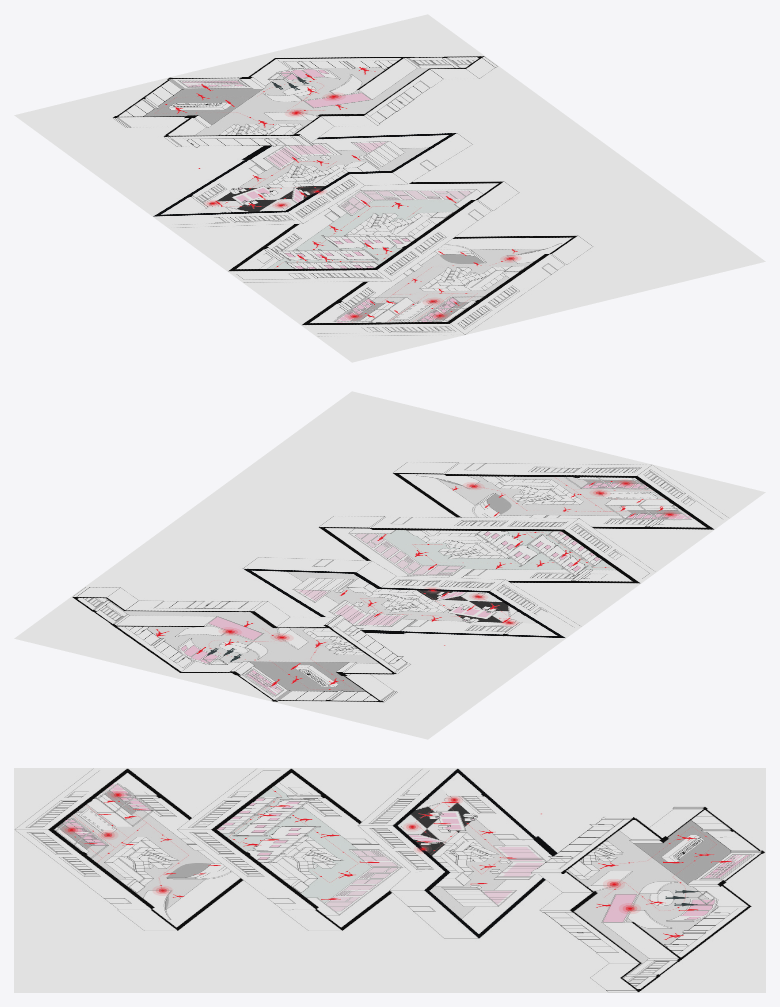
File: pinacoteca.obj
3 views of the same model, one above another, from view 1: azimuth 30°, elevation 25°; view 2: azimuth 150°, elevation 25°; view 3: azimuth 270°, elevation 25° (orthographic). The views are drawn at different scales.
Parts seen in each view (by area): view 1: Plane001; view 2: Plane001; view 3: Plane001.
Part boxes in pixels (x1=…): Plane001: x1=14, y1=14, x2=765, y2=362; Plane001: x1=14, y1=391, x2=765, y2=739; Plane001: x1=14, y1=768, x2=765, y2=992.
Size of the model in its own units: 8.27 by 0 by 11.69.
